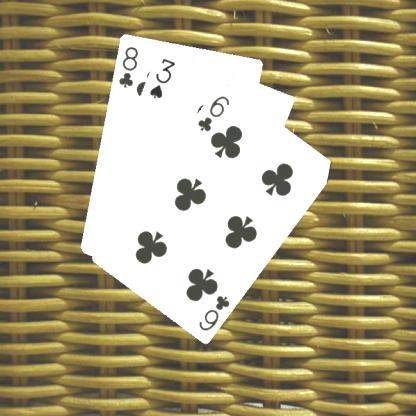3S: (146, 54, 177, 100)
6C: (195, 292, 232, 332), (195, 92, 231, 133)
8C: (115, 43, 140, 89)
